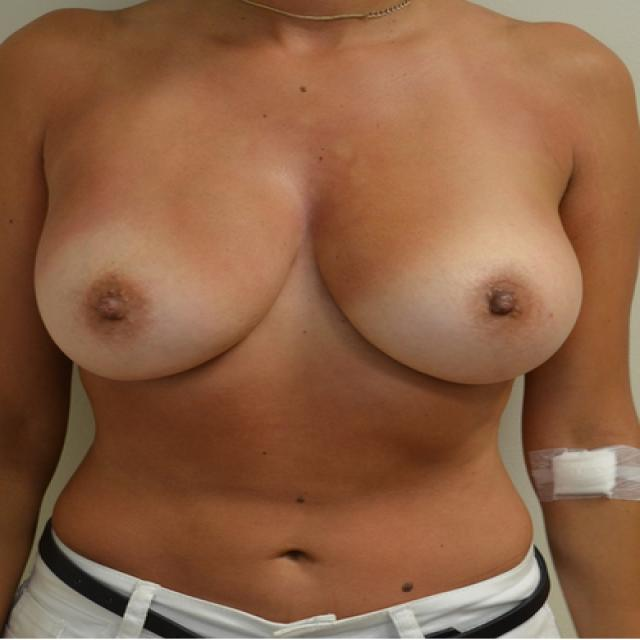Seno ileso: (309, 138, 592, 404), (24, 140, 305, 399)
